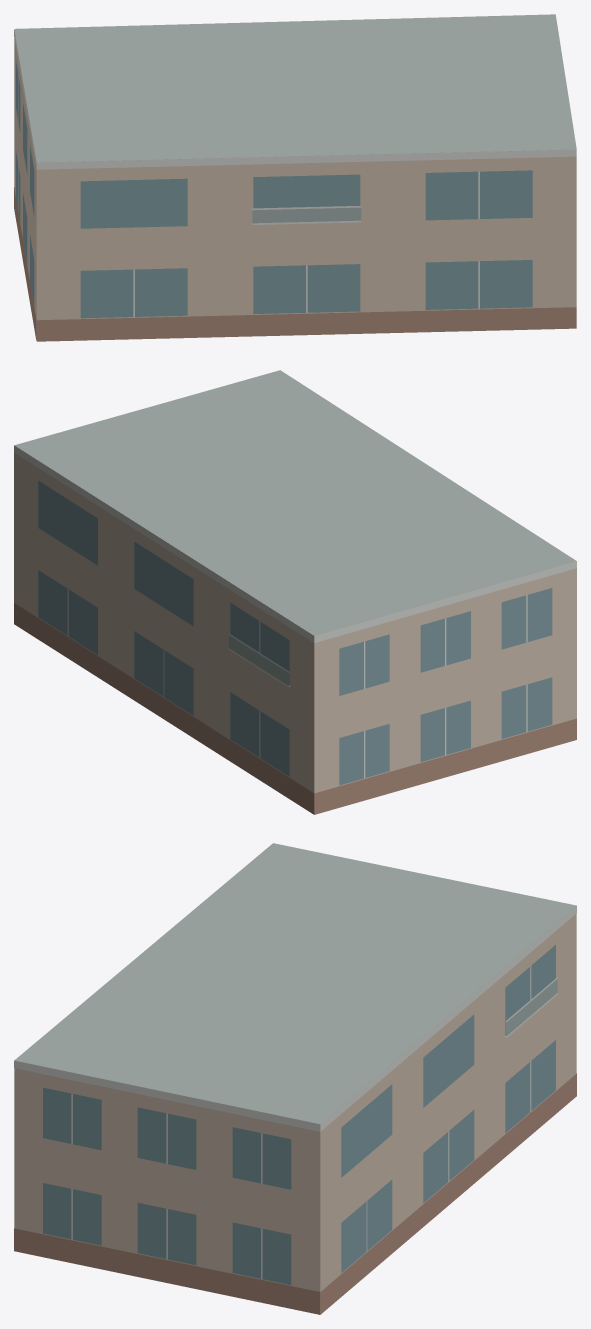
Rendered from survey-upis-33035459.glb.
The picture shows the model from 3 angles, top to bottom: view 1: azimuth 30°, elevation 25°; view 2: azimuth 150°, elevation 25°; view 3: azimuth 270°, elevation 25°; orthographic projection. The views are drawn at different scales.
Parts seen in each view (by area): view 1: survey-upis-33035459.tmp; view 2: survey-upis-33035459.tmp; view 3: survey-upis-33035459.tmp.
Part boxes in pixels (left/top/right/bottom): survey-upis-33035459.tmp: left=14, top=14, right=576, bottom=341; survey-upis-33035459.tmp: left=14, top=370, right=576, bottom=814; survey-upis-33035459.tmp: left=14, top=843, right=576, bottom=1314.
Bounding box in the file's own units: 19.31 × 6.1 × 16.33.
